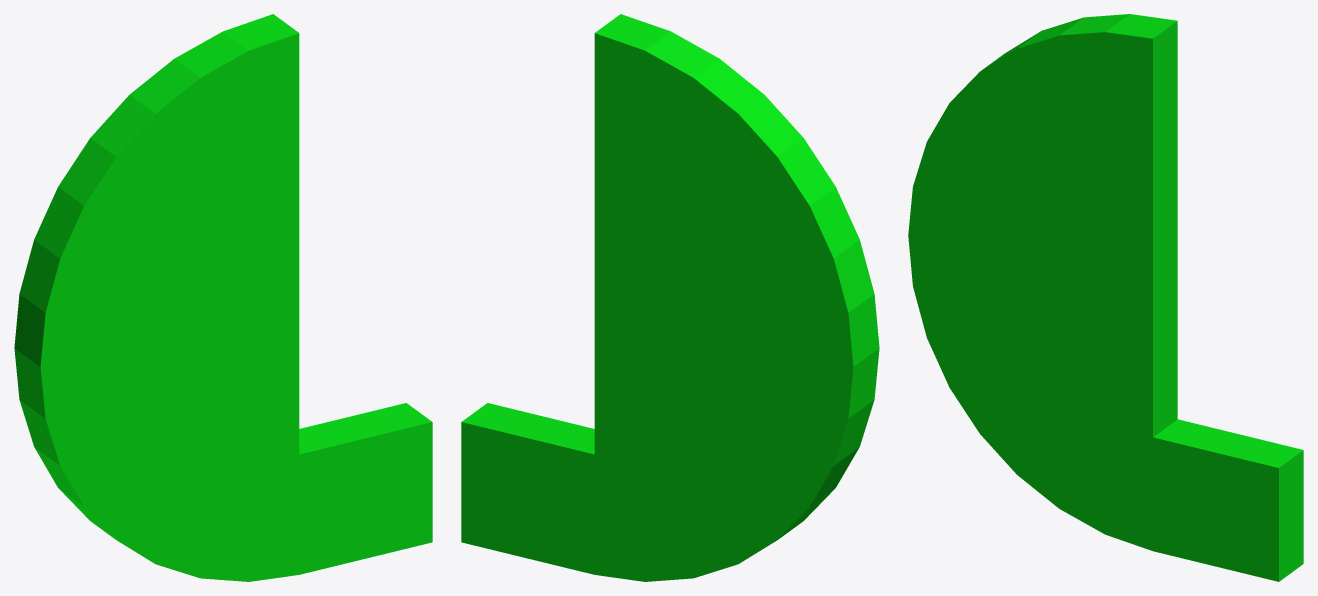
File: SM_outter_door_blockout.glb
3 renders of one model, left to right at view 1: azimuth 30°, elevation 25°; view 2: azimuth 150°, elevation 25°; view 3: azimuth 330°, elevation 25°, orthographic. The views are drawn at different scales.
Visible parts, largest first — view 1: SM_outter_door_blockout; view 2: SM_outter_door_blockout; view 3: SM_outter_door_blockout.
Boxes of the visible parts, x1,y1,x2,y2 form: SM_outter_door_blockout: (14, 14, 432, 581); SM_outter_door_blockout: (461, 14, 879, 581); SM_outter_door_blockout: (908, 14, 1303, 581).
Size of the model in its own units: 7.01 by 9.26 by 0.8101.
